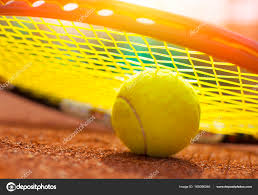tennis_ball: (112, 67, 201, 160)
